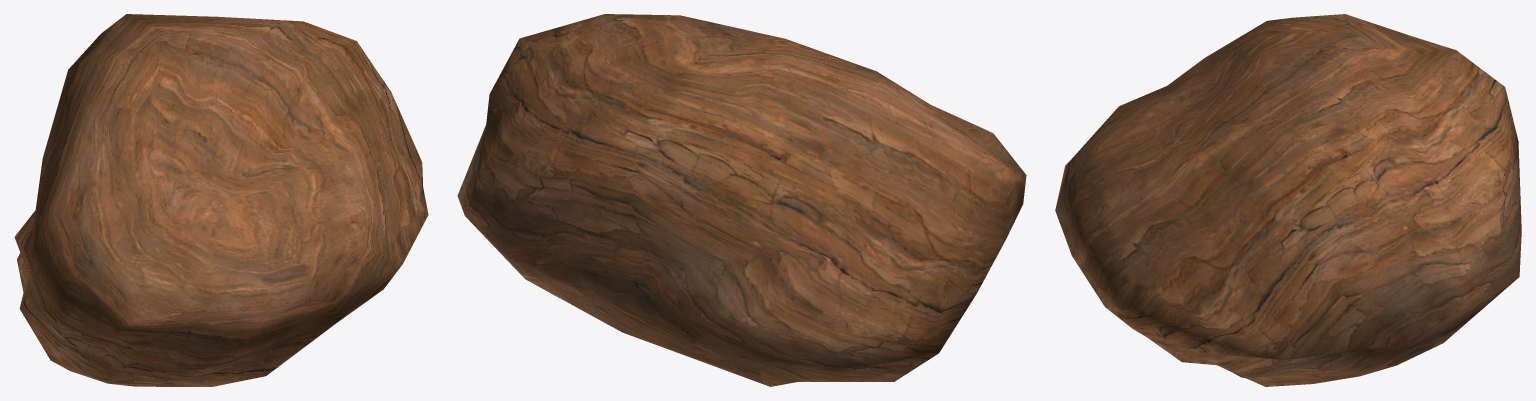
The model's file is rock_tatt_jundland_boulder_a3_l0.fbx.
The picture shows the model from 3 angles, left to right: view 1: azimuth 30°, elevation 25°; view 2: azimuth 150°, elevation 25°; view 3: azimuth 270°, elevation 25°; orthographic projection. The views are drawn at different scales.
Parts seen in each view (by area): view 1: mesh_node; view 2: mesh_node; view 3: mesh_node.
Boxes of the visible parts, x1,y1,x2,y2 form: mesh_node: (14,14,428,386); mesh_node: (457,14,1026,386); mesh_node: (1055,14,1521,386).
Size of the model in its own units: 2.43 by 1.74 by 2.21.
